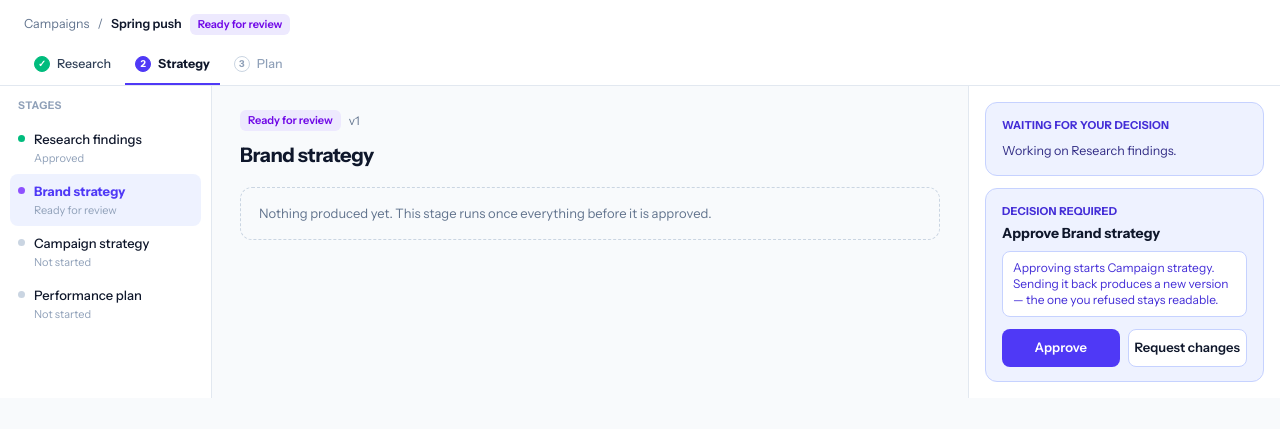
it: approving a stage › says the feed was lost, not that the run is waiting, if re-attaching fails
Expected: the element named "Run progress" shows "Waiting for your decision", [1002,118,1169,132]
Click the button "Approve": [1061, 348] box [1002,329,1120,366]
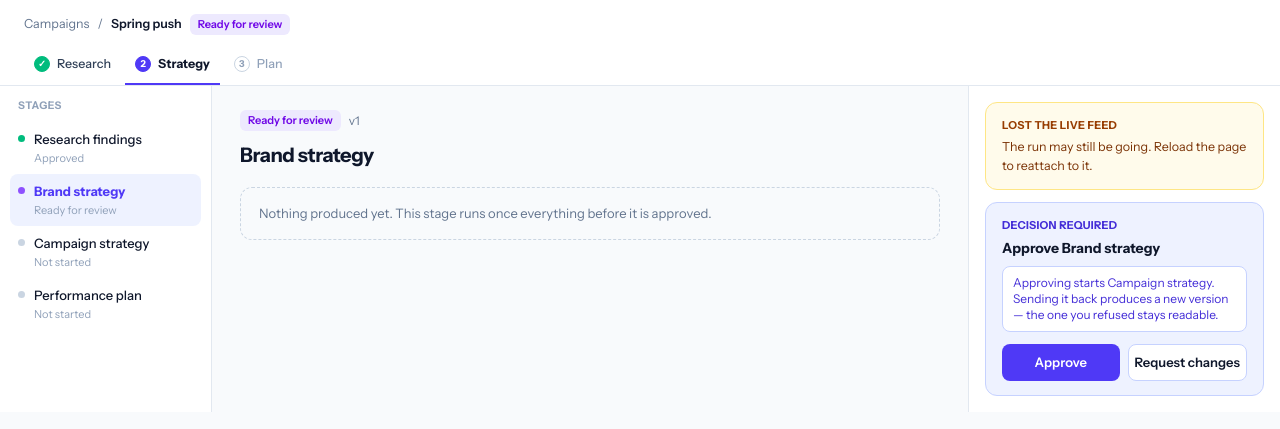
Result: the message shows "Lost the live feed" at [1002,118,1117,132]
Result: the text "Waiting for your decision" is gone
